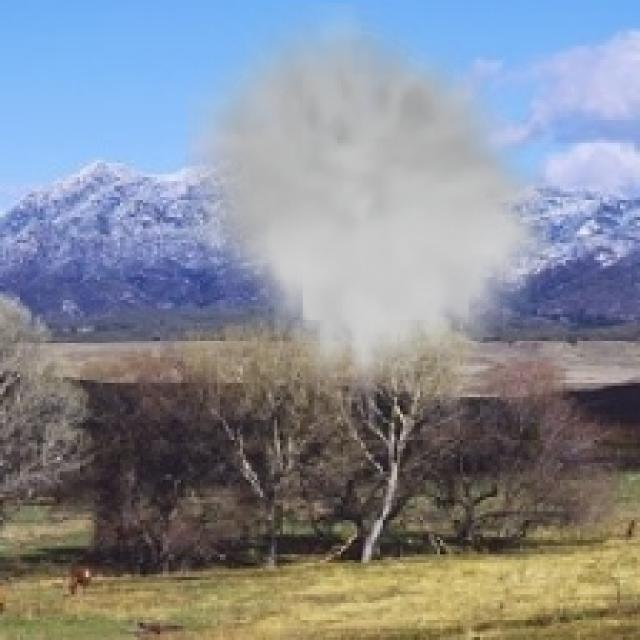smoke: (186, 3, 551, 394)
